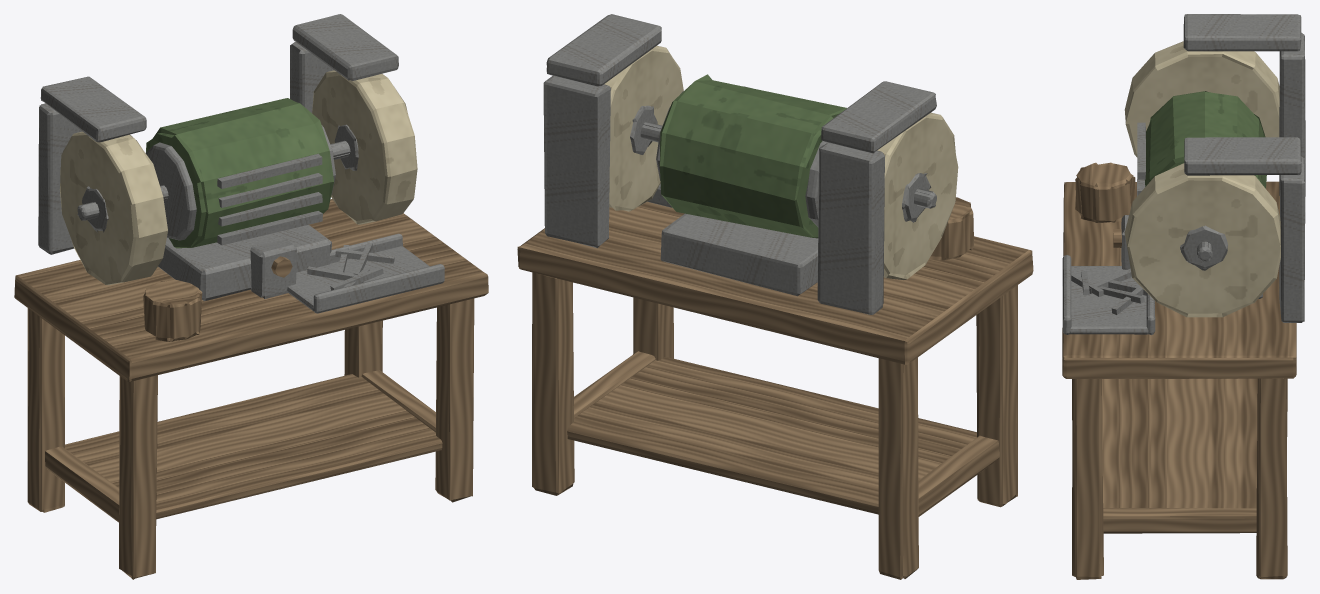
File: needle_polisher.glb
3 views of the same model, side by side, from view 1: azimuth 30°, elevation 25°; view 2: azimuth 150°, elevation 25°; view 3: azimuth 270°, elevation 25° (orthographic). The views are drawn at different scales.
Visible parts, largest first — view 1: NeedlePolisher; view 2: NeedlePolisher; view 3: NeedlePolisher.
Part boxes in pixels (box(x1,y1,x2,y2)): NeedlePolisher: box(14, 14, 488, 579); NeedlePolisher: box(517, 14, 1033, 579); NeedlePolisher: box(1062, 14, 1305, 579).
Size of the model in its own units: 1.4 by 1.52 by 0.816.
Materials: 4 (4 with a texture image).
